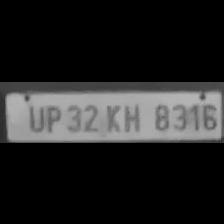1: (187, 98, 201, 130)
2: (80, 100, 100, 132)
3: (171, 100, 191, 132), (63, 100, 81, 132)
6: (197, 98, 217, 130)
8: (149, 100, 173, 132)
H: (120, 100, 142, 132)
K: (102, 100, 120, 132)
P: (42, 102, 62, 132)
U: (23, 101, 43, 133)
